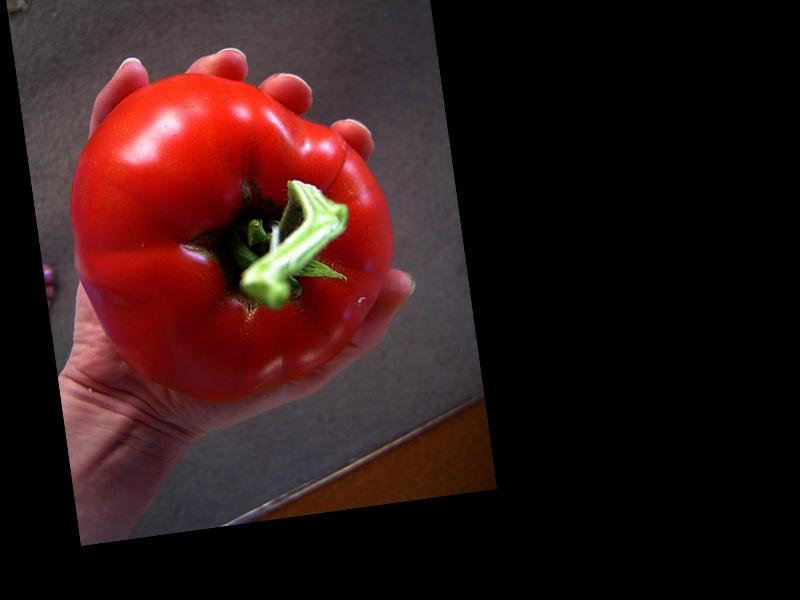Tomato: (53, 49, 413, 417)
